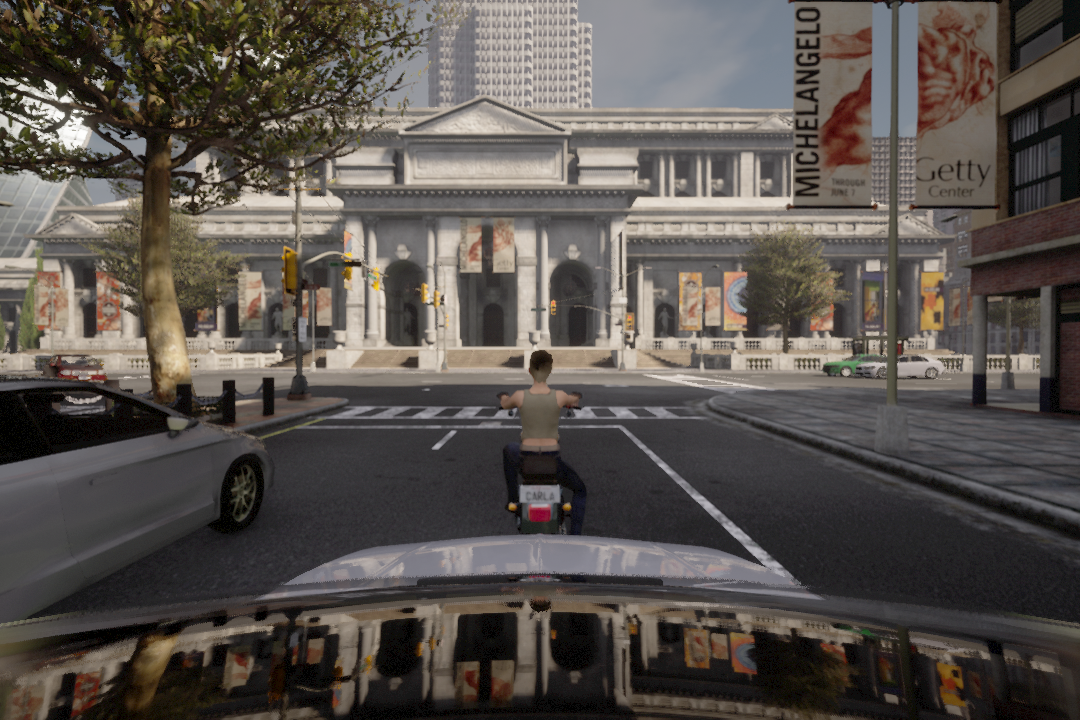TrafficLight: (624, 313, 636, 333), (551, 300, 559, 319)
walkside: (302, 399, 730, 425)
